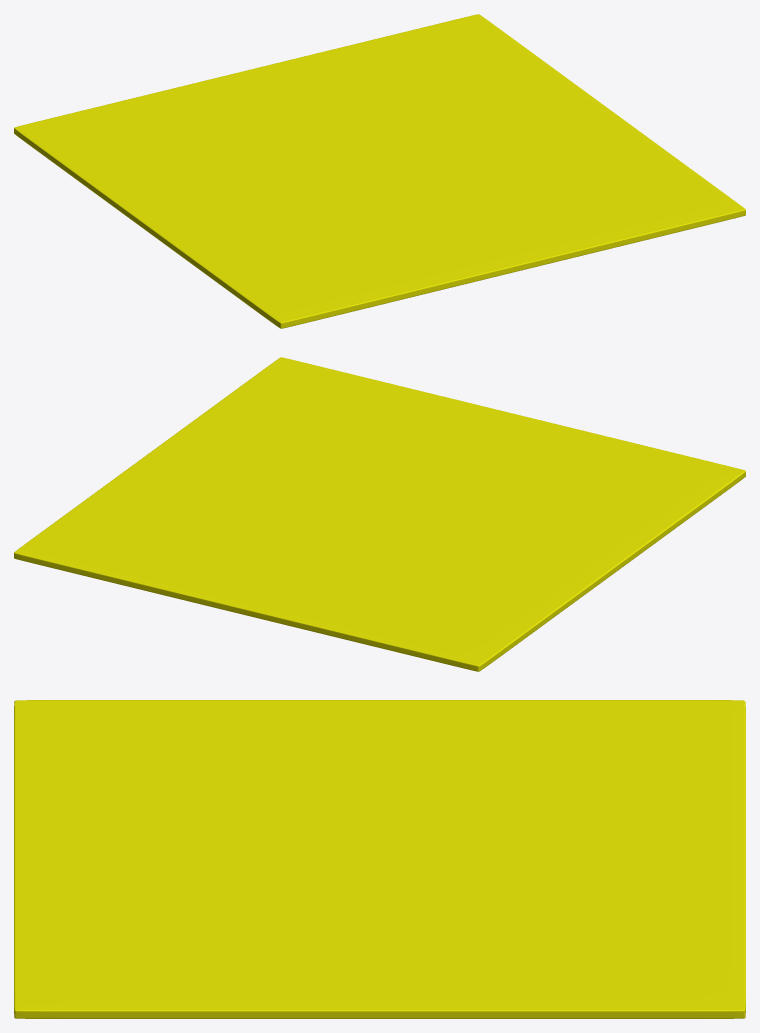
Rendered from floor.fbx.
The picture shows the model from 3 angles, top to bottom: view 1: azimuth 30°, elevation 25°; view 2: azimuth 150°, elevation 25°; view 3: azimuth 270°, elevation 25°; orthographic projection. The views are drawn at different scales.
Parts seen in each view (by area): view 1: Floor; view 2: Floor; view 3: Floor.
Boxes of the visible parts, x1,y1,x2,y2 form: Floor: (14, 14, 745, 328); Floor: (14, 357, 745, 671); Floor: (14, 700, 745, 1018).
Bounding box in the file's own units: 20.38 × 0.2733 × 20.26.
